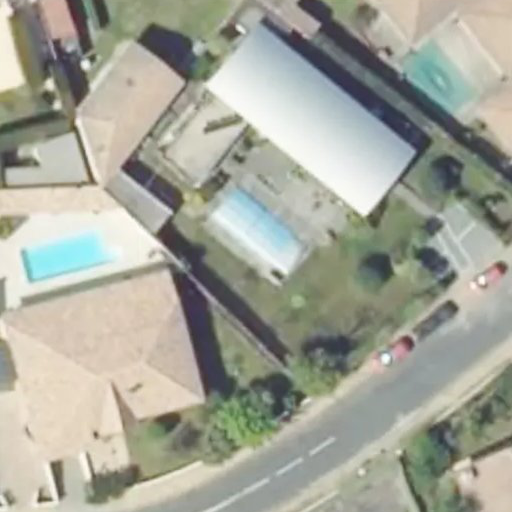pool: (197, 231, 314, 252)
